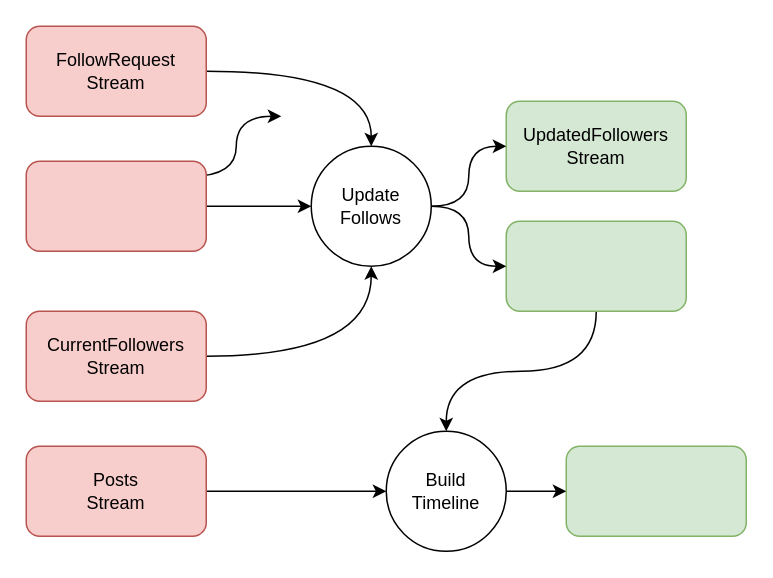
Some shapes in this 773 by 578 pixel diagram are drawn without their labels. Each missing label, with the box of its shape:
CurrentFollowings Stream: (25, 160, 206, 251)
Timelines Stream: (565, 445, 746, 536)
UpdatedFollowings Stream: (505, 220, 686, 311)
